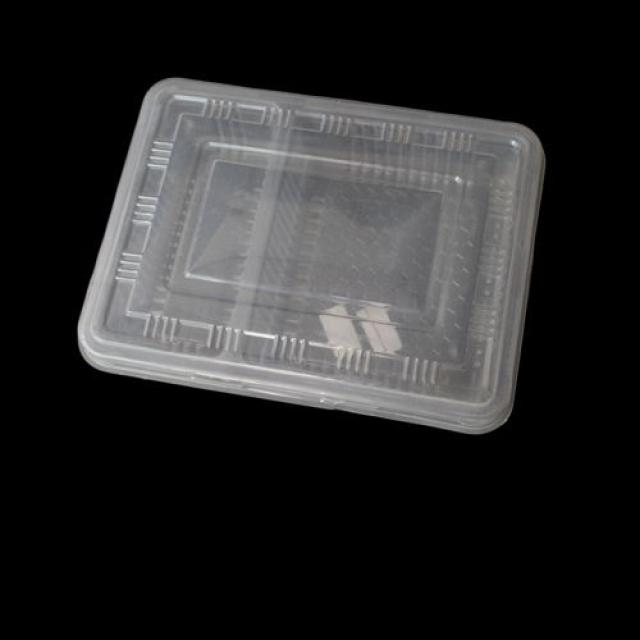plastic_box: (59, 63, 577, 439)
